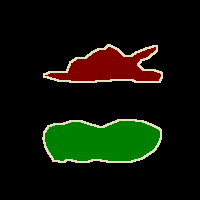shoe: (43, 119, 161, 162), (44, 44, 162, 82)
